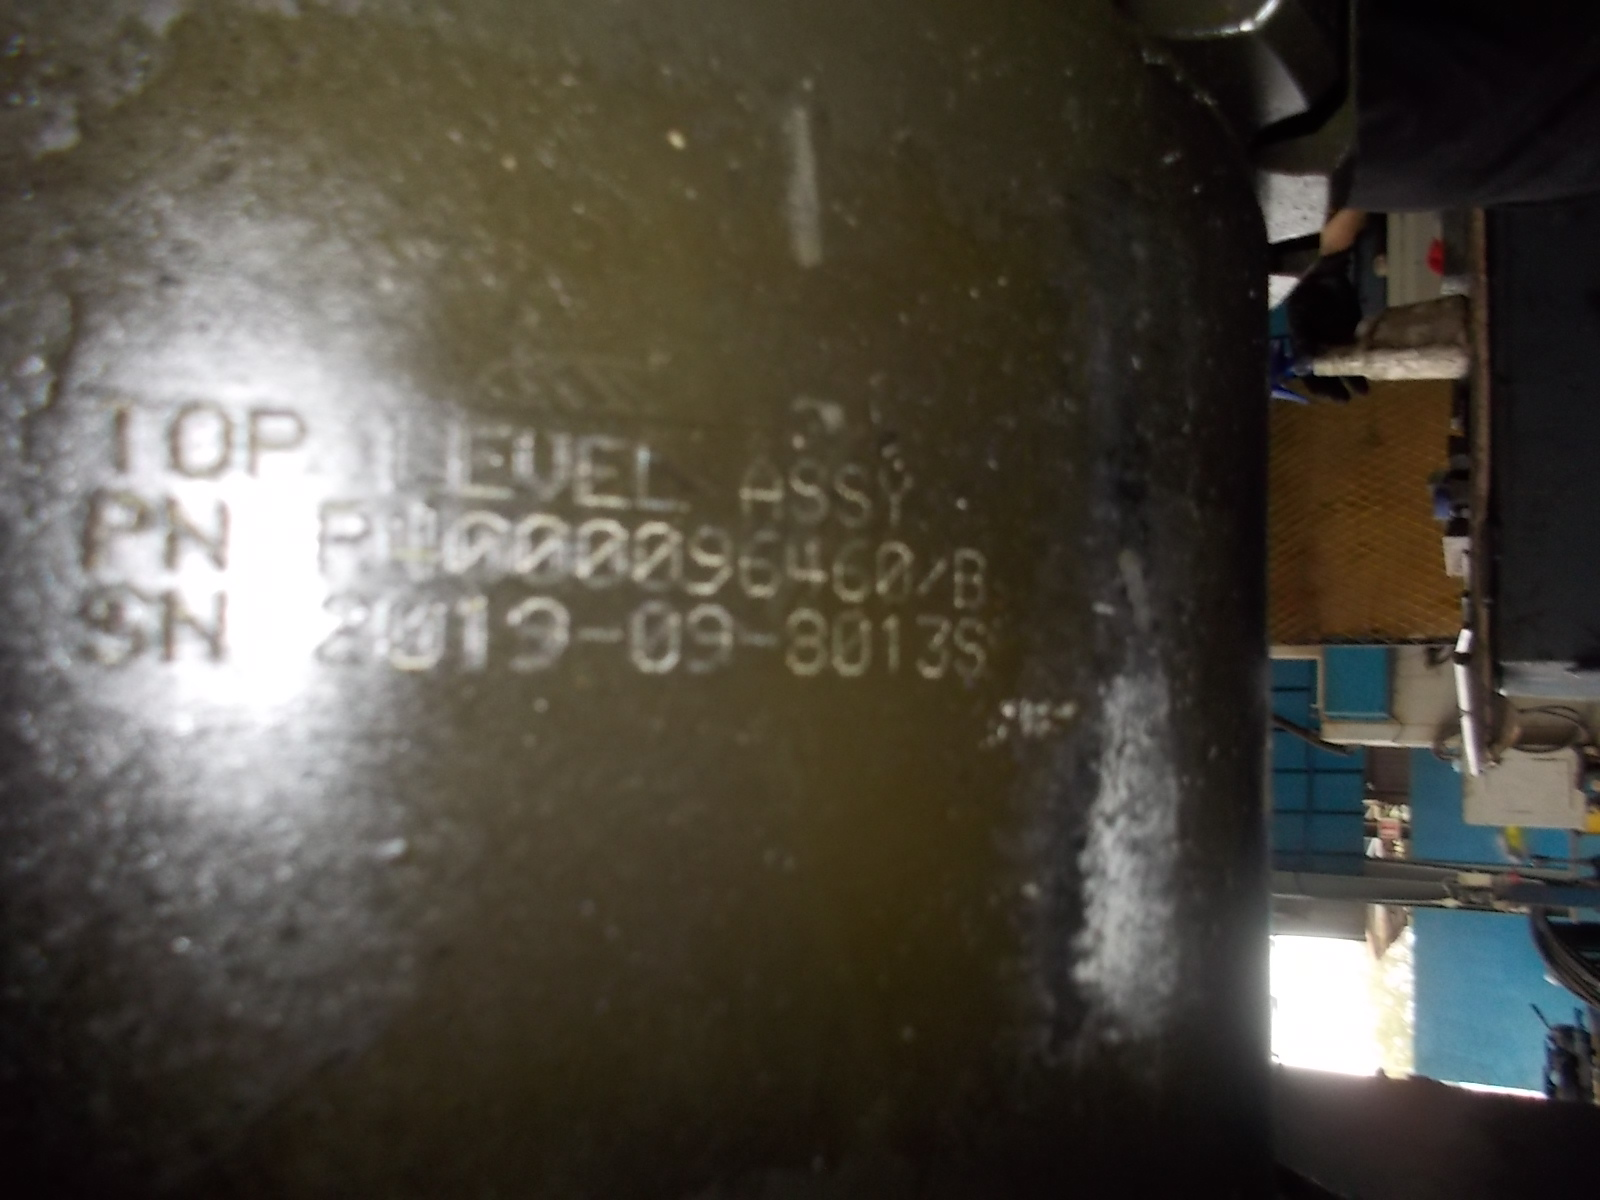character: (62, 478, 157, 582), (55, 579, 157, 676), (157, 584, 249, 673), (66, 376, 152, 470), (364, 410, 450, 500), (237, 395, 320, 487), (160, 494, 239, 582), (386, 590, 454, 686), (159, 395, 237, 476), (501, 590, 569, 682), (319, 592, 386, 686), (314, 497, 377, 587), (450, 499, 513, 589), (450, 416, 515, 500), (631, 434, 695, 514), (515, 416, 571, 507), (627, 600, 687, 682), (728, 451, 792, 526), (511, 511, 571, 591), (572, 516, 632, 591), (571, 434, 631, 507), (454, 590, 501, 682), (632, 516, 682, 601), (876, 447, 927, 528), (950, 542, 1007, 614), (682, 524, 734, 601), (734, 526, 785, 604), (687, 603, 734, 682), (872, 536, 921, 610), (831, 610, 876, 686), (831, 532, 872, 610), (786, 532, 831, 601), (785, 610, 831, 677), (952, 616, 997, 684), (913, 609, 952, 684), (831, 458, 874, 526), (876, 610, 913, 686), (792, 458, 831, 526), (412, 505, 443, 576), (382, 504, 412, 576), (921, 550, 950, 614), (574, 618, 626, 649), (734, 623, 782, 655)
